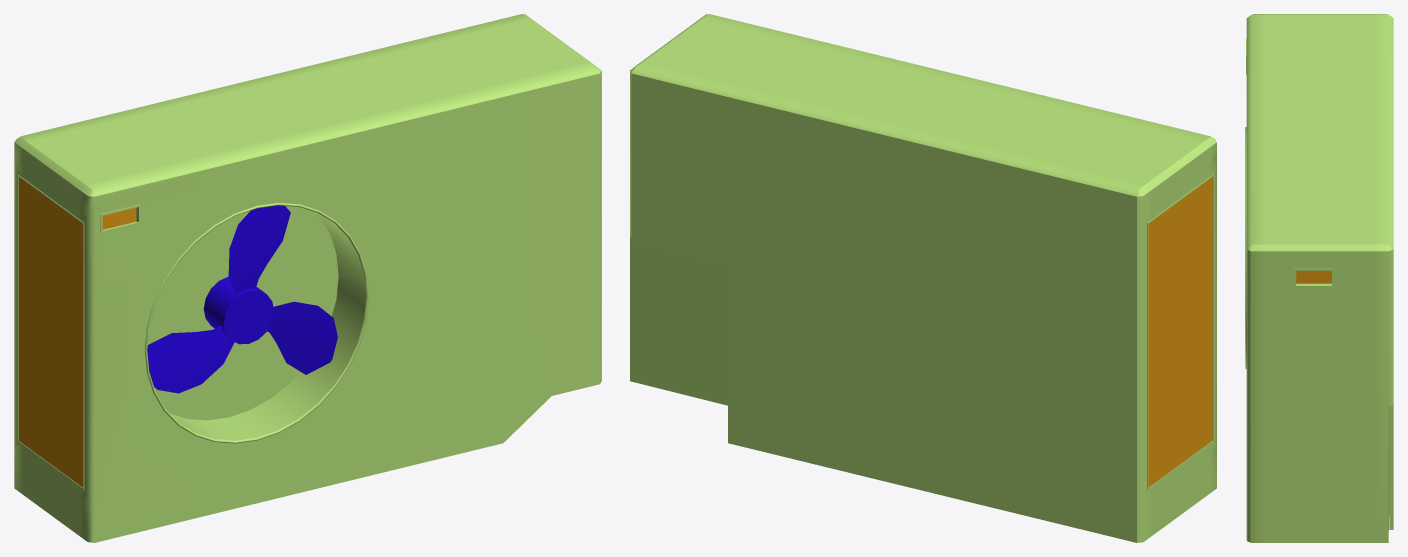
The model's file is Aire_Acondicionado.fbx.
The picture shows the model from 3 angles, left to right: view 1: azimuth 30°, elevation 25°; view 2: azimuth 150°, elevation 25°; view 3: azimuth 270°, elevation 25°; orthographic projection. The views are drawn at different scales.
Parts seen in each view (by area): view 1: Aircon_Low; view 2: Aircon_Low; view 3: Aircon_Low.
Boxes of the visible parts, x1,y1,x2,y2 form: Aircon_Low: (14,14,601,542); Aircon_Low: (630,14,1216,542); Aircon_Low: (1245,14,1393,542).
Bounding box in the file's own units: 8843 × 5752 × 2350.
